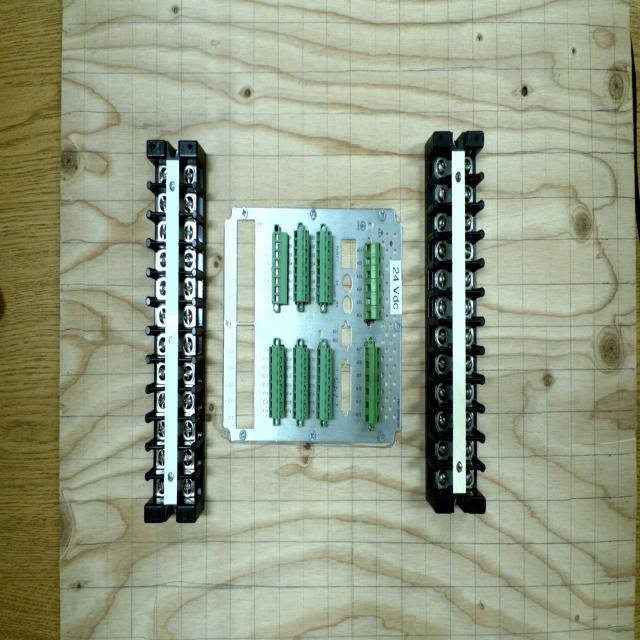Flathead_Block: (435, 132, 486, 513)
Phillips_Block: (144, 140, 198, 523)
Terminal_1: (365, 243, 382, 319), (365, 347, 380, 423)
Terminal_2: (316, 348, 332, 420), (316, 231, 332, 303), (293, 230, 309, 302), (293, 348, 308, 420), (269, 347, 284, 418)
